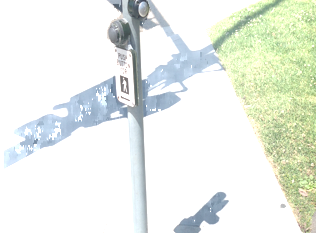Obstacle: (109, 1, 152, 235)
